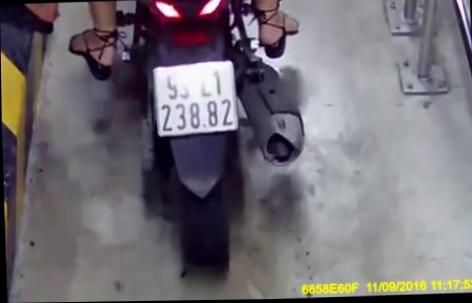LP: (150, 61, 238, 137)
